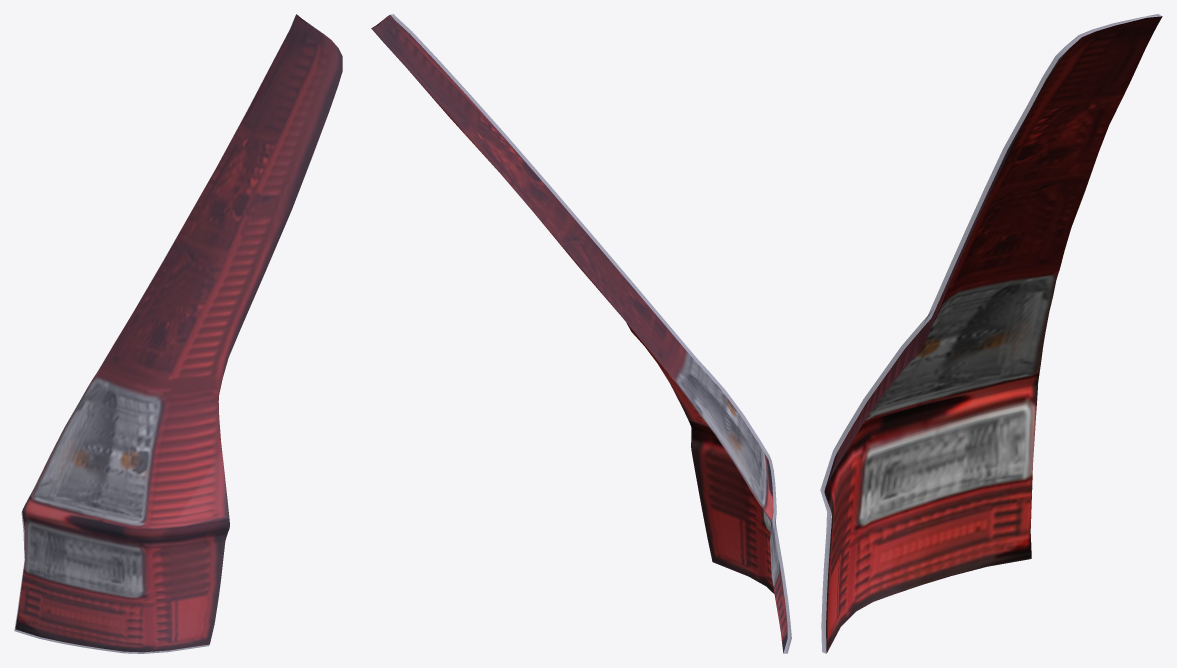
3 views of the same model, side by side, from view 1: azimuth 30°, elevation 25°; view 2: azimuth 150°, elevation 25°; view 3: azimuth 270°, elevation 25° (orthographic). The views are drawn at different scales.
Visible parts, largest first — view 1: H812_541C_R_H812_541C_R_2_DTaSI, H812_541C_R_1_N_H812_541C_R; view 2: H812_541C_R_1_N_H812_541C_R, H812_541C_R_H812_541C_R_2_DTaSI; view 3: H812_541C_R_1_N_H812_541C_R, H812_541C_R_H812_541C_R_2_DTaSI.
Part boxes in pixels (x1,y1,x2,y2): H812_541C_R_H812_541C_R_2_DTaSI: (14, 14, 342, 653); H812_541C_R_1_N_H812_541C_R: (15, 14, 342, 652); H812_541C_R_1_N_H812_541C_R: (371, 15, 787, 652); H812_541C_R_H812_541C_R_2_DTaSI: (371, 14, 791, 653); H812_541C_R_1_N_H812_541C_R: (824, 16, 1162, 652); H812_541C_R_H812_541C_R_2_DTaSI: (820, 14, 1161, 653).
Bounding box in the file's own units: 52.76 × 75.32 × 29.64.
